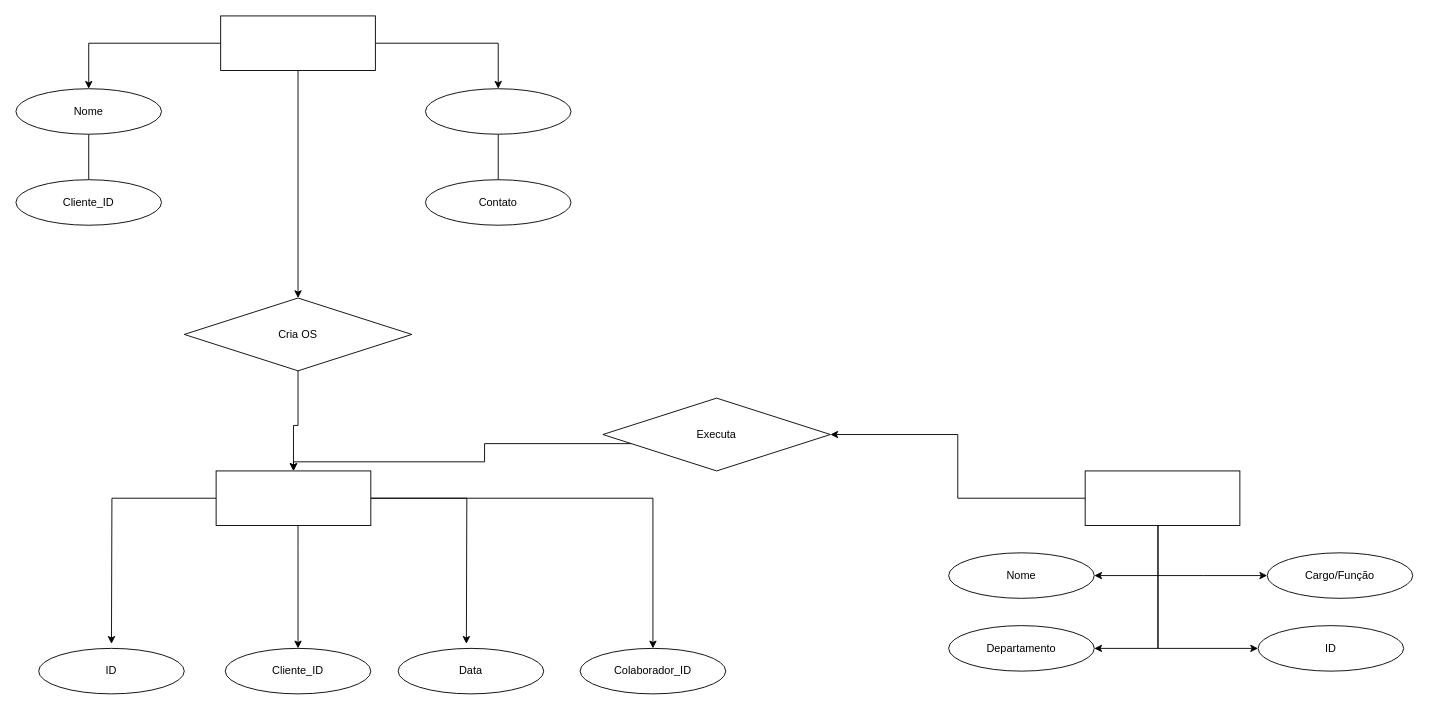
This 1429x710 diagram has some shape labels left out. Here are the shapes that lost their labels. From the top down, the centre of each, then its label:
At pixel 297 43: "Cliente".
At pixel 498 111: "Endereço".
At pixel 293 498: "Ordem de serviço".
At pixel 1162 498: "Colaborador".
